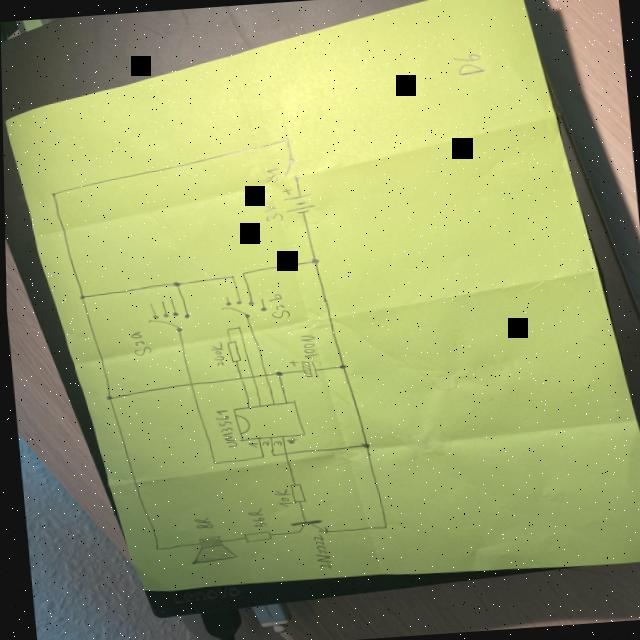capacitor: (285, 360, 316, 380)
crossover: (184, 380, 192, 388), (247, 374, 254, 380), (259, 372, 266, 378), (235, 376, 242, 381), (278, 451, 285, 456)
junction: (306, 256, 318, 266), (168, 280, 179, 288), (357, 441, 367, 449), (47, 190, 55, 198), (271, 370, 280, 377), (335, 363, 344, 370), (102, 394, 110, 401), (237, 270, 245, 277), (76, 294, 84, 300), (149, 546, 157, 552), (226, 274, 234, 280), (378, 524, 385, 530), (281, 138, 288, 144), (222, 328, 228, 332), (233, 326, 239, 330), (208, 460, 213, 464), (257, 454, 261, 458), (268, 453, 272, 457)
resistor: (222, 339, 240, 364), (238, 530, 268, 544), (286, 482, 302, 505)
source: (279, 186, 313, 216)
switch: (143, 296, 192, 334), (216, 294, 266, 320), (278, 156, 299, 181)
text: (211, 408, 234, 448), (308, 534, 328, 571), (264, 292, 288, 320), (126, 329, 149, 356), (296, 334, 316, 361), (256, 203, 281, 223), (206, 341, 223, 368), (243, 507, 264, 528), (270, 488, 291, 508), (189, 516, 210, 530), (262, 167, 279, 184), (283, 437, 294, 445), (243, 442, 255, 449), (269, 440, 279, 447), (258, 439, 266, 446)
transistor: (284, 513, 327, 536)
